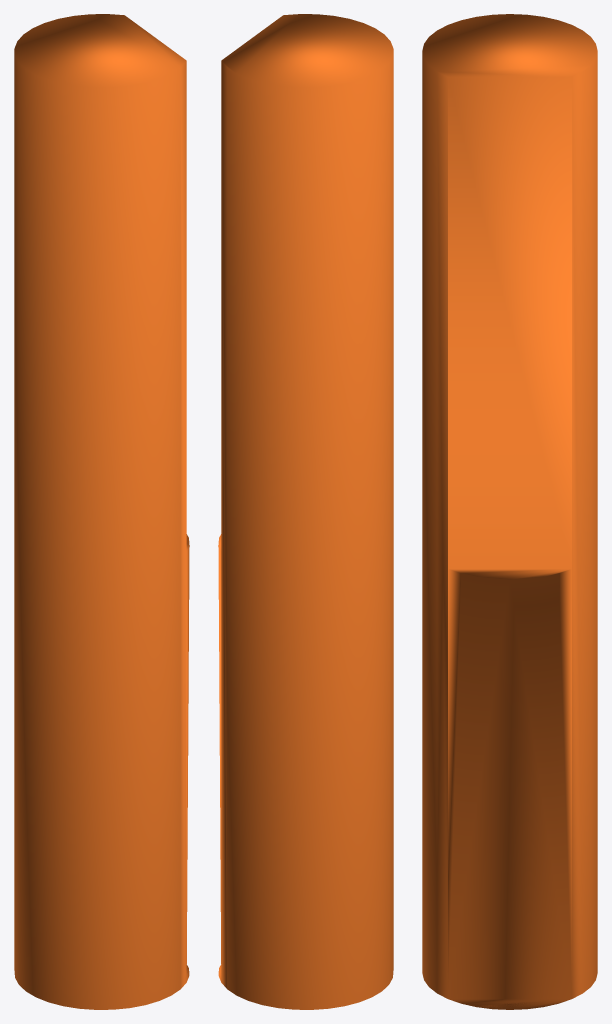
The model's file is nemashaft.glb.
The picture shows the model from 3 angles, left to right: view 1: azimuth 30°, elevation 25°; view 2: azimuth 150°, elevation 25°; view 3: azimuth 270°, elevation 25°; orthographic projection.
Parts seen in each view (by area): view 1: shaft; view 2: shaft; view 3: shaft.
Part boxes in pixels (x1=…): shaft: x1=14, y1=14, x2=189, y2=1009; shaft: x1=218, y1=14, x2=393, y2=1009; shaft: x1=422, y1=14, x2=597, y2=1009.
Bounding box in the file's own units: 0.5 × 2.9 × 0.5.
1 material, 1 textured.
